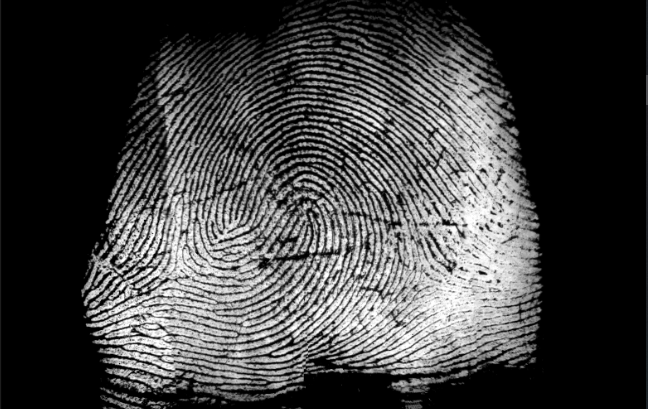nucelo: (293, 195, 326, 233)
verticilo: (159, 237, 209, 283), (409, 256, 444, 294)
